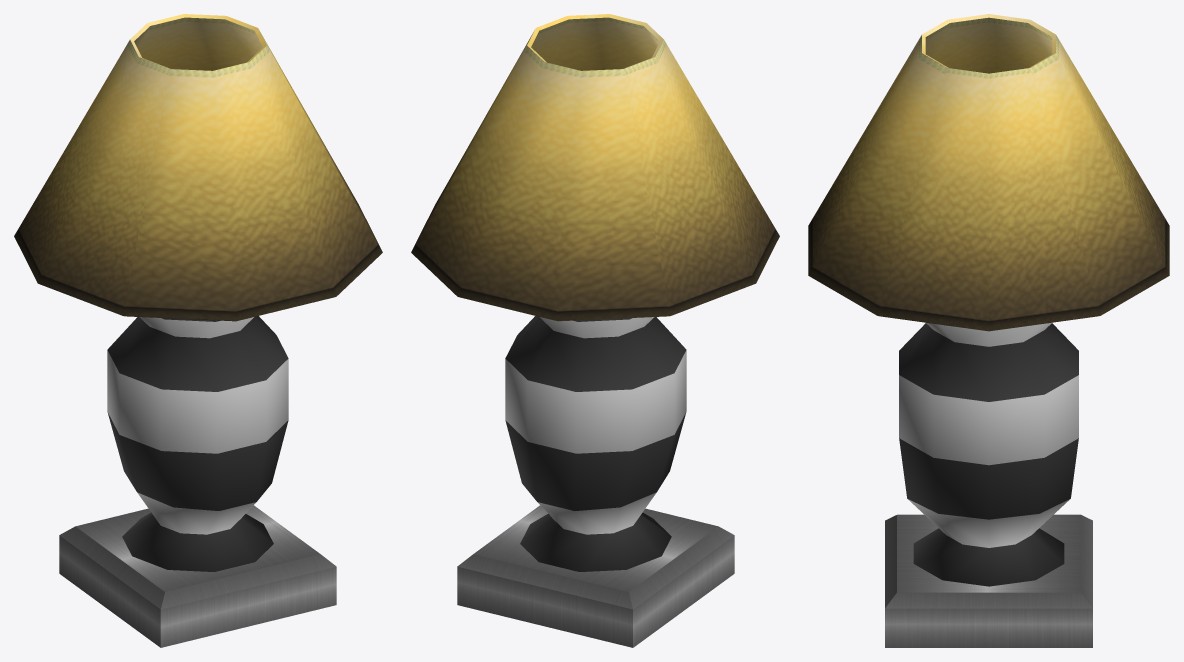
The model's file is Classic_Lamp_E.FBX.
3 renders of one model, left to right at view 1: azimuth 30°, elevation 25°; view 2: azimuth 150°, elevation 25°; view 3: azimuth 270°, elevation 25°, orthographic. The views are drawn at different scales.
Visible parts, largest first — view 1: Lamp; view 2: Lamp; view 3: Lamp.
Boxes of the visible parts, left/top/right/bottom form: Lamp: left=14, top=14, right=382, bottom=647; Lamp: left=411, top=14, right=779, bottom=647; Lamp: left=808, top=14, right=1169, bottom=647.
Bounding box in the file's own units: 82.2 × 134 × 78.18.
